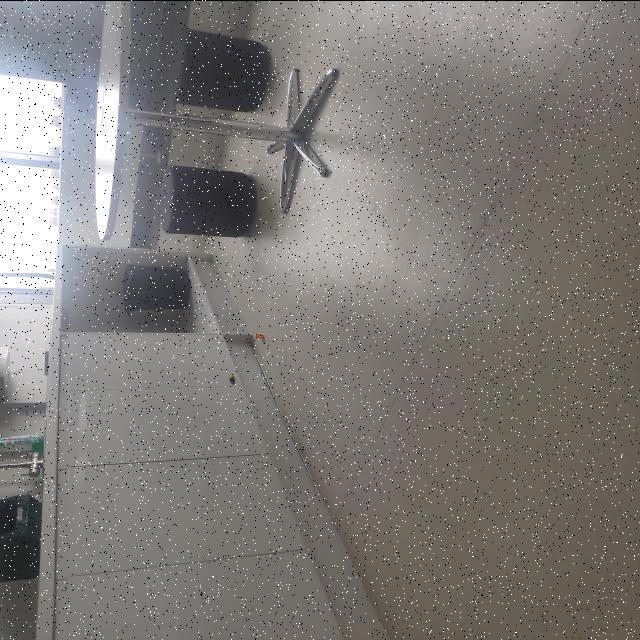ping-pong-ball: (254, 332, 264, 339)
